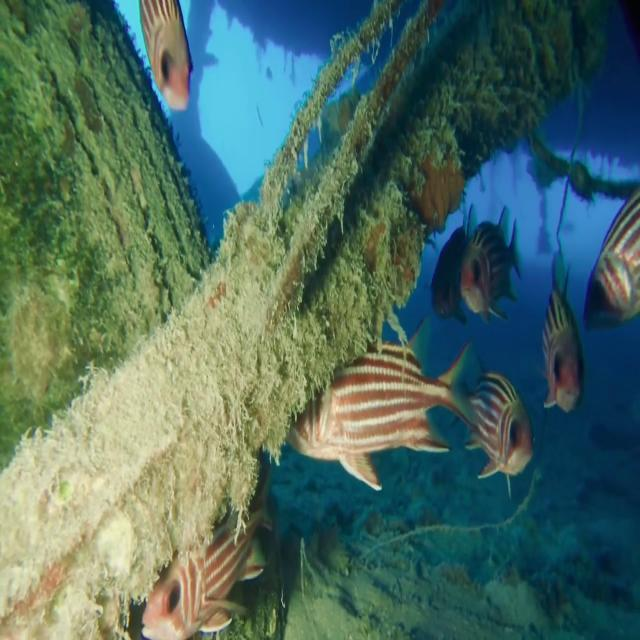Asker Baligi: (284, 332, 482, 492), (138, 510, 276, 638), (459, 369, 530, 501), (540, 262, 594, 434), (454, 206, 524, 319), (142, 0, 196, 118)
